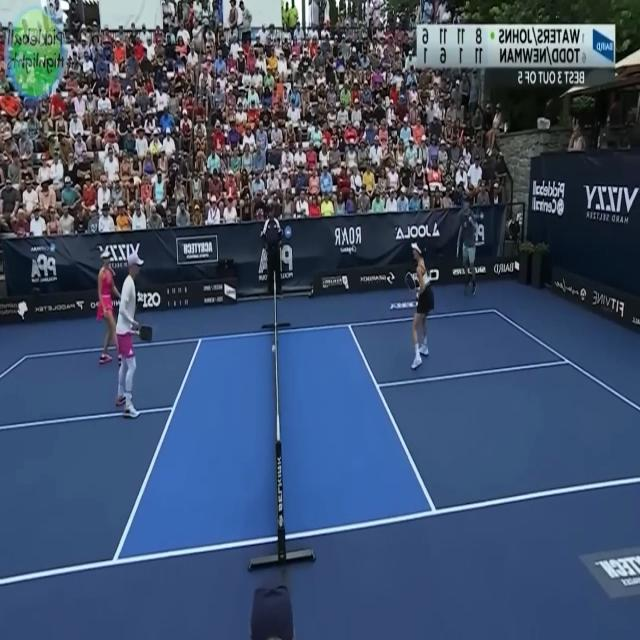Pickleball: (270, 343, 276, 353)
